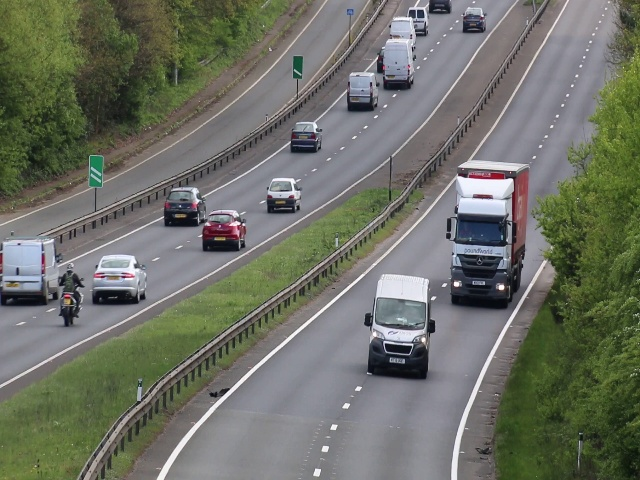car: (447, 161, 528, 306), (369, 273, 430, 382), (1, 238, 56, 305), (91, 253, 147, 303), (160, 183, 206, 224), (204, 209, 248, 250), (265, 176, 302, 215), (345, 70, 379, 111), (385, 40, 412, 88), (290, 119, 321, 154), (408, 7, 431, 37), (463, 7, 487, 33), (389, 17, 416, 40)
